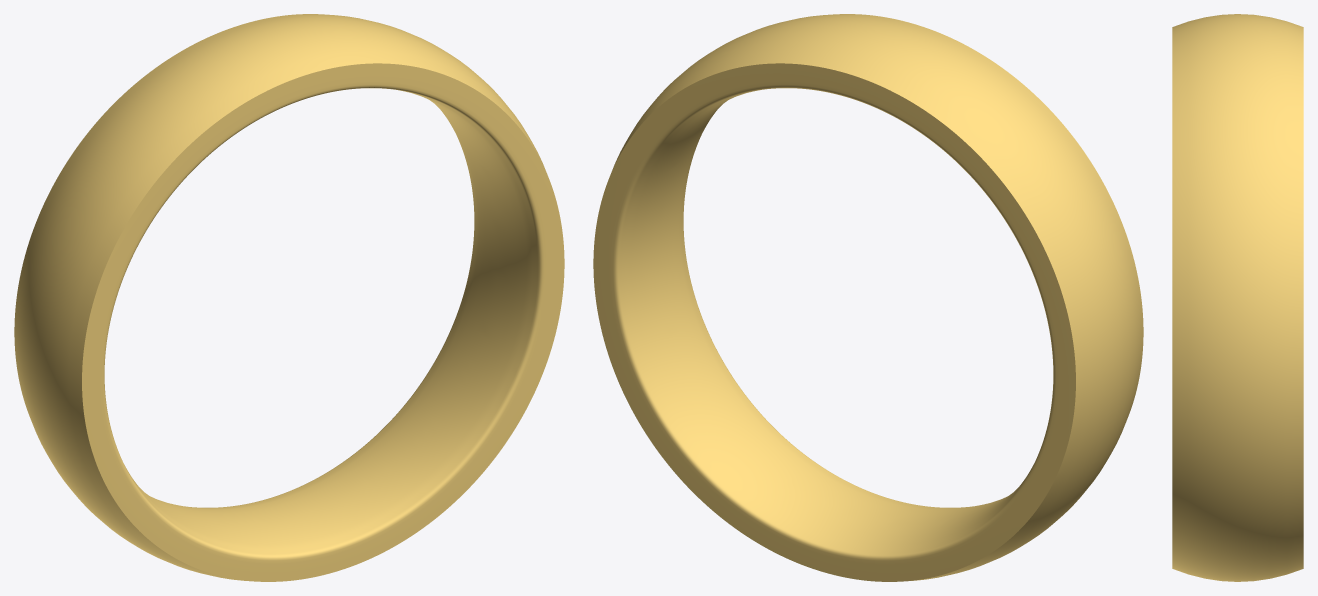
File: ChrisVygwb_blender.glb
The picture shows the model from 3 angles, left to right: view 1: azimuth 30°, elevation 25°; view 2: azimuth 150°, elevation 25°; view 3: azimuth 270°, elevation 25°; orthographic projection. The views are drawn at different scales.
Visible parts, largest first — view 1: Chris YG for 3d model; view 2: Chris YG for 3d model; view 3: Chris YG for 3d model.
Boxes of the visible parts, x1,y1,x2,y2 form: Chris YG for 3d model: [14, 14, 564, 581]; Chris YG for 3d model: [593, 14, 1143, 581]; Chris YG for 3d model: [1172, 14, 1303, 581].
Size of the model in its own units: 21.16 by 21.16 by 4.9.
